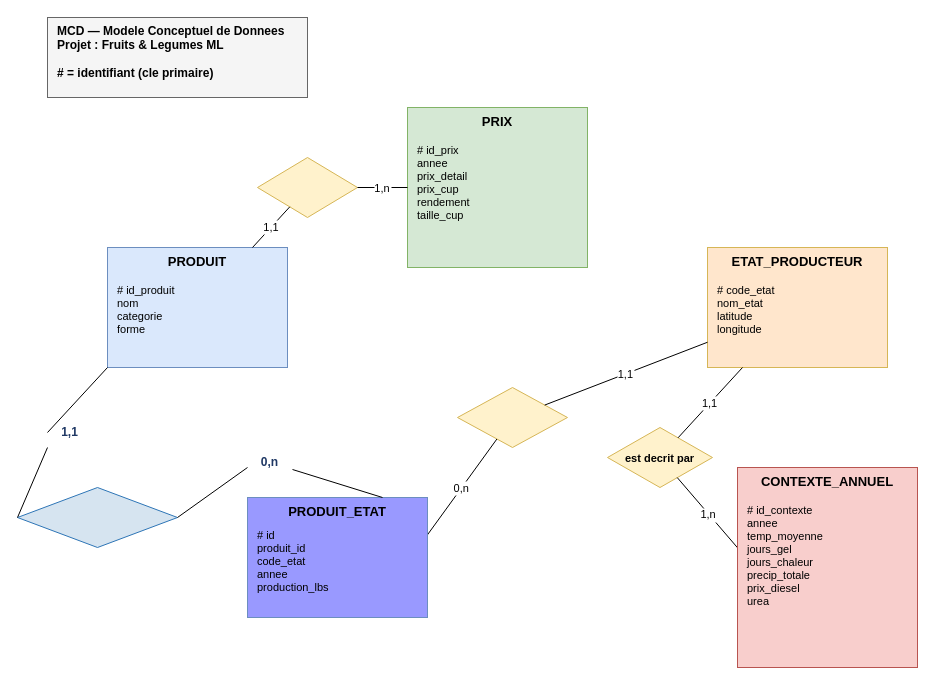
This 935x685 diagram has some shape labels left out. The centre of each missing label's shape, as x and y in pixels:
appartient à: the point at 512,417
est produit dans: the point at 97,517
est vendu: the point at 307,187
